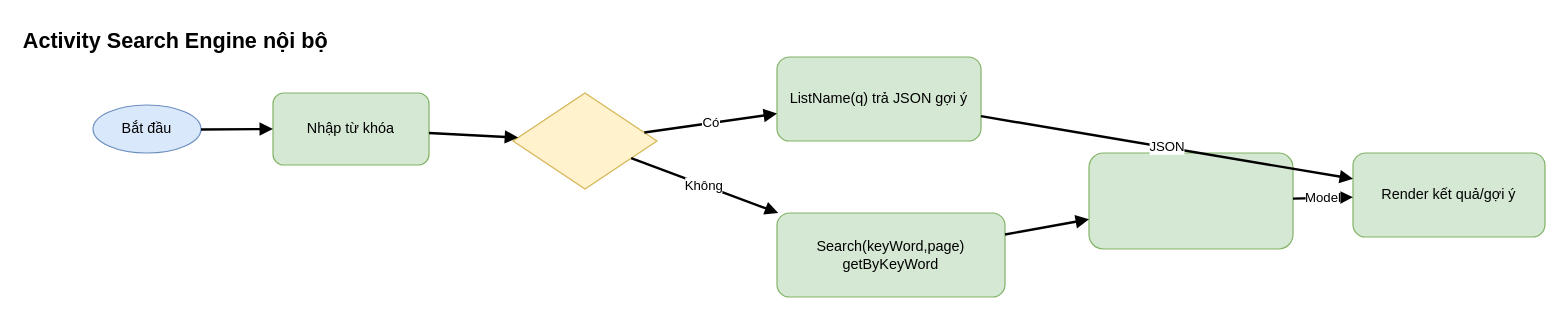
This 1566x318 diagram has some shape labels left out. The centre of each missing label's shape, as x and y in pixels:
Autocomplete?: (584,140)
SQL Contains + X.PagedList: (1190,200)
